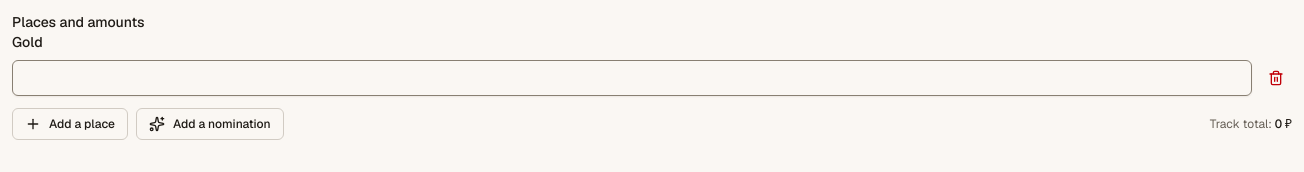
Test: the field itself refuses a fractional amount as it is typed › the running total is shown in whole money, with no kopecks
In the field labelled "Gold": x=632, y=78 [12,60,1252,96], type "150000"
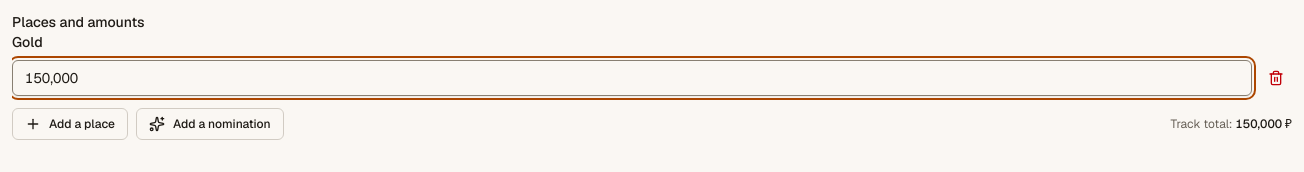
Expected: the text "150,000 ₽" is shown, [1236,116,1292,132]
